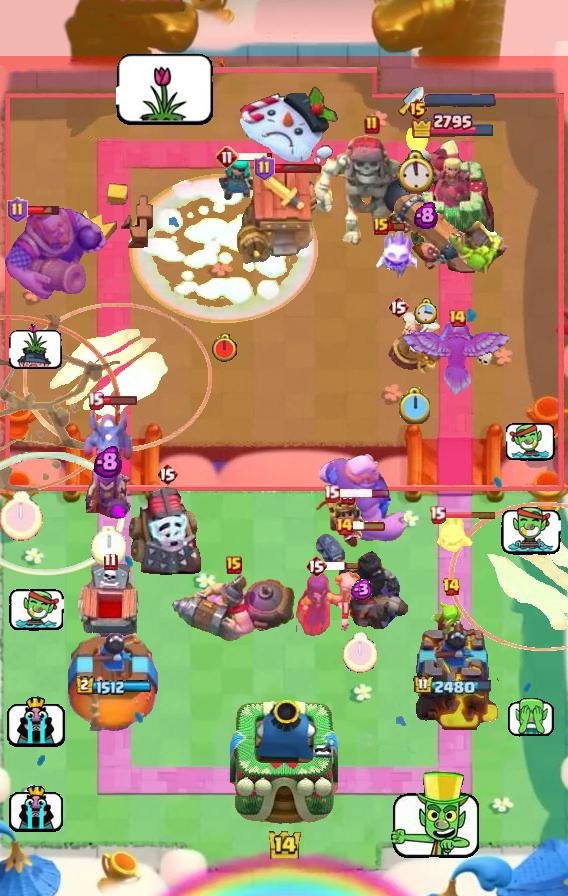axe: (296, 569, 364, 637)
balloon: (316, 452, 410, 544)
bar: (409, 138, 497, 256)
bat: (430, 514, 475, 556)
battle-healer: (377, 192, 475, 274)
bomber-evolution: (314, 492, 368, 548)
electro-giant: (310, 134, 434, 246)
electro-spirit: (94, 446, 122, 478), (414, 201, 438, 229), (348, 579, 373, 601)
elixir: (0, 491, 43, 541), (399, 150, 436, 193), (343, 632, 378, 673), (91, 526, 126, 566), (398, 387, 430, 425), (210, 333, 237, 363), (414, 298, 438, 324)
elixir-collector: (385, 306, 443, 376)
elixir-golem-mid: (75, 562, 145, 648)
emote: (272, 162, 322, 174), (337, 488, 390, 499), (443, 510, 497, 519), (351, 520, 387, 532), (27, 204, 62, 216), (237, 150, 274, 161), (102, 395, 139, 406), (324, 561, 360, 571), (386, 220, 406, 231)
giant-skeleton: (0, 206, 108, 302)
golden-knight: (401, 319, 513, 399)
golem: (126, 485, 208, 577)
graveyard: (81, 405, 135, 477)
guard: (0, 315, 120, 494)
ice-spirit-evolution: (406, 123, 428, 153)
ice-wizard: (23, 303, 212, 453), (448, 501, 567, 651)
inferno-dragon: (312, 531, 408, 629)
king-tower: (230, 698, 338, 826)
king-tower-bar: (424, 93, 496, 107)
mirror: (373, 225, 417, 279)
phoenix-big: (129, 174, 319, 323)
queen-tower: (405, 617, 501, 731), (68, 633, 160, 731)
rascal-girl: (81, 461, 135, 525)
selected: (410, 111, 496, 138), (413, 675, 493, 697), (75, 676, 152, 696)
skeleton: (386, 770, 484, 864), (116, 52, 214, 126), (6, 692, 66, 747), (501, 507, 561, 555), (8, 783, 64, 834), (9, 322, 63, 370), (8, 587, 63, 631), (506, 422, 556, 463), (508, 698, 557, 737)
sparky: (237, 168, 323, 266)
text: (215, 145, 239, 169), (406, 97, 429, 121), (254, 155, 275, 181), (7, 197, 28, 223), (387, 295, 409, 319), (156, 462, 178, 486), (305, 554, 327, 578), (447, 308, 467, 328), (334, 516, 354, 536), (443, 577, 462, 597), (87, 391, 105, 410), (323, 484, 341, 503), (430, 505, 447, 524), (364, 115, 380, 135), (373, 217, 389, 235), (226, 556, 242, 574), (103, 553, 117, 571)
witch: (216, 155, 268, 201)
wizard: (171, 570, 297, 644)
x-bow: (448, 219, 511, 275)
zap: (429, 601, 473, 656)
